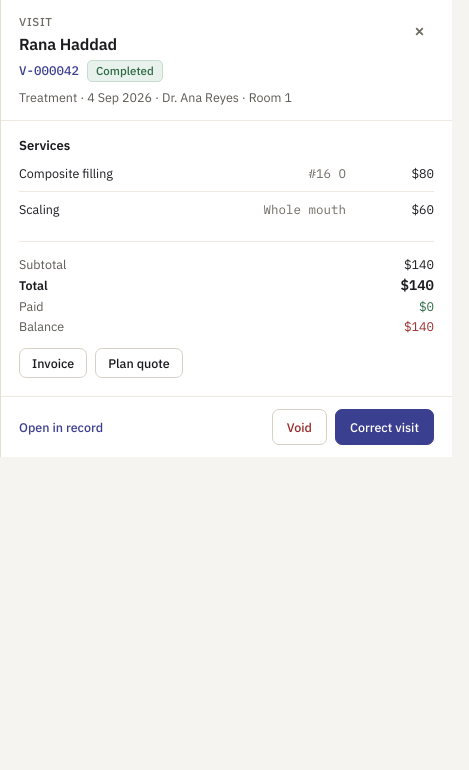
VisitDetailPanel › blocks Save on a tooth that does not parse, until that service is removed
Click the button "Correct visit".
click(384, 427)  # box [335,409,434,445]
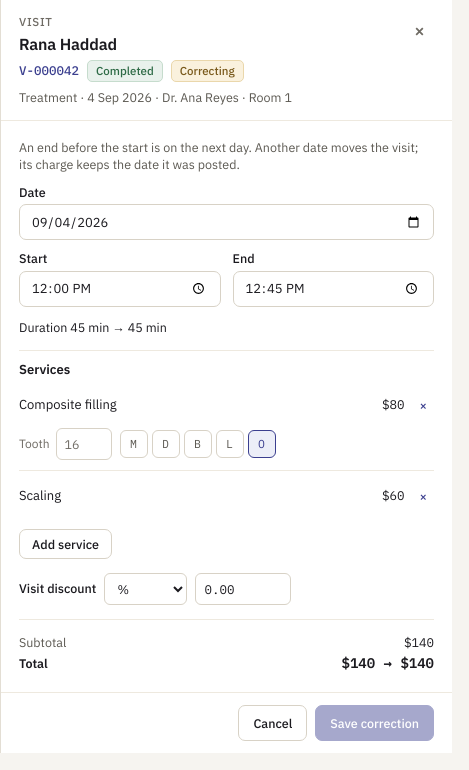
Replace the text in the field named "Tooth of Composite filling" with "99" at (84, 444), box [56,428,112,460]
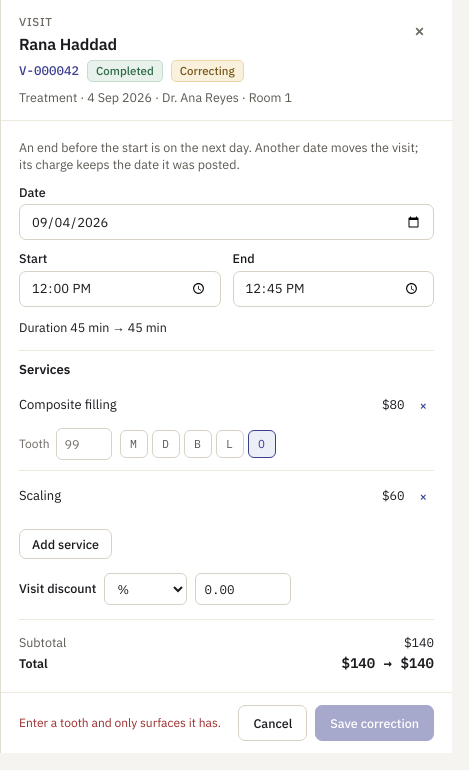
Expected: the button "Save correction" is disabled, [315,705,434,741]
Expected: the text "Enter a tooth and only surfaces it has." is shown, [19,715,221,732]
Click the button named "Remove Composite filling".
click(423, 405)  # box [412,390,434,420]
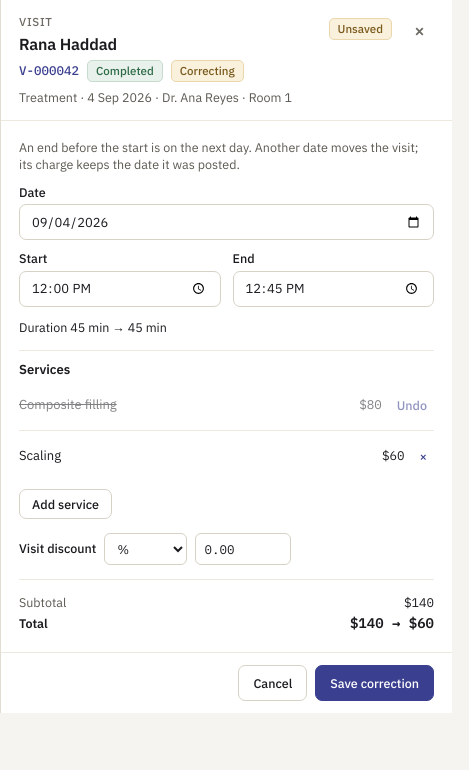
Expected: the button "Save correction" is enabled, [315,665,434,701]
